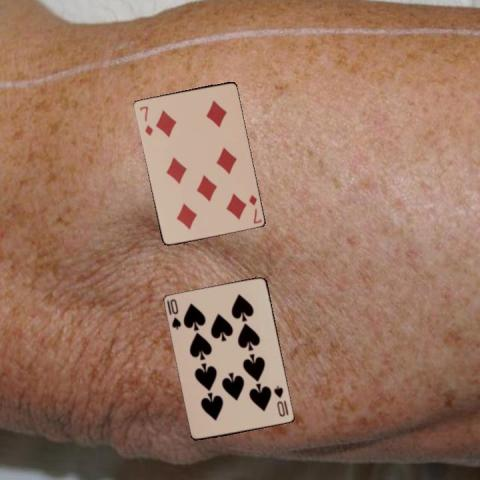10s: (271, 383, 287, 418), (167, 296, 183, 331)
7d: (245, 191, 263, 225), (137, 103, 154, 137)
